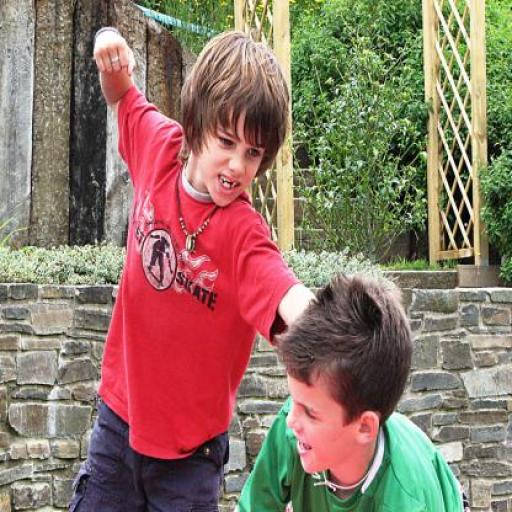Fighting: (96, 24, 465, 512)
